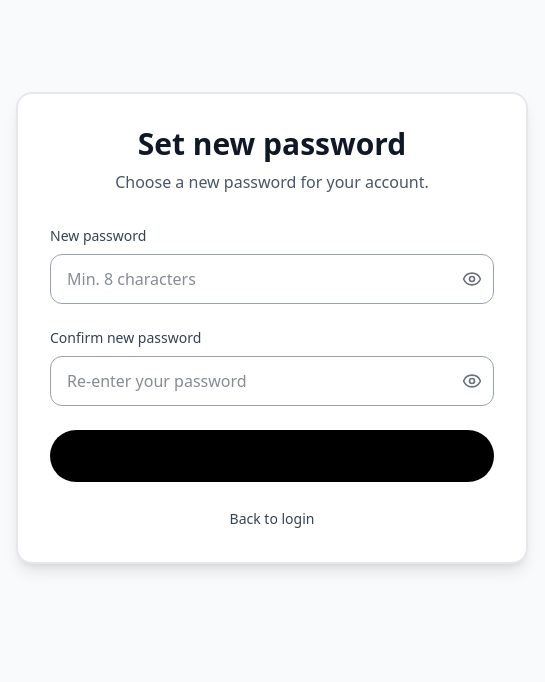
Scenario: NewPasswordPage › shows validation error for missing uppercase
Type "strong1!" into the password field labelled "New password".
click(272, 279); type("strong1!")  # box [50,254,494,304]
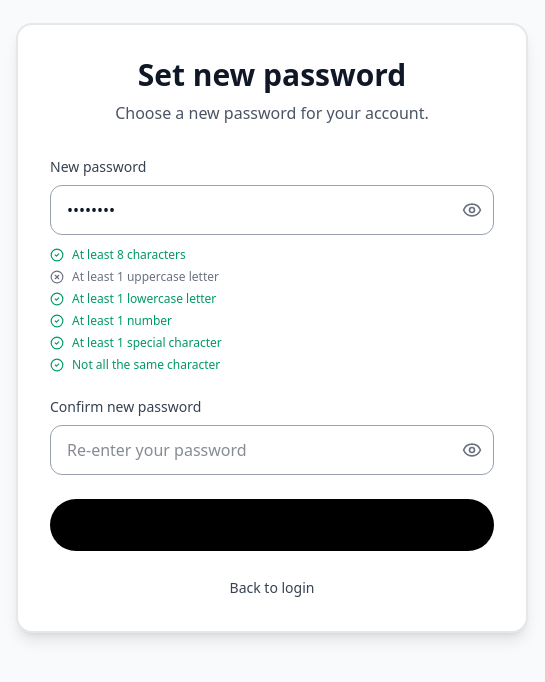
Type "strong1!" into the password field labelled "Confirm new password".
click(272, 450); type("strong1!")  # box [50,425,494,475]
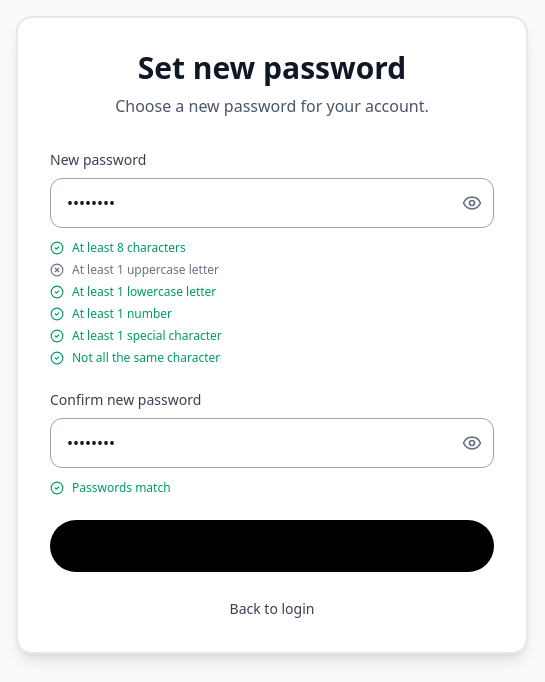
Click the button "Continue".
click(272, 546)  # box [50,520,494,572]
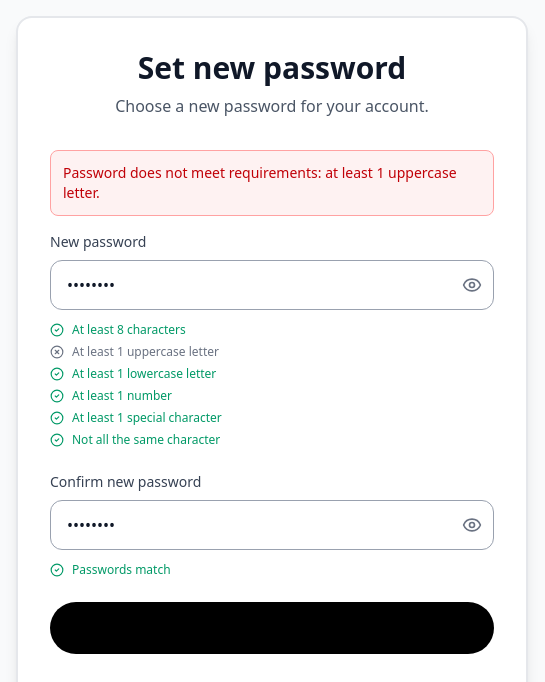
Check: the text "Password does not meet requirements: at least 1 uppercase letter." is shown, box [50,150,494,216]
